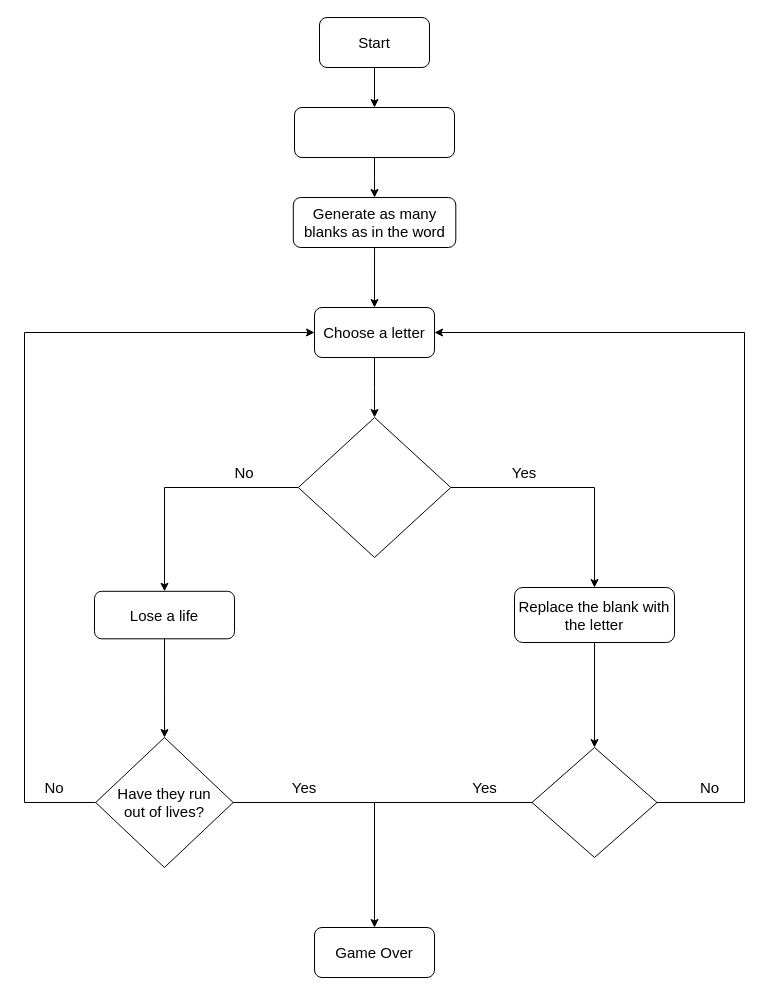
This 770x995 diagram has some shape labels left out. Each missing label, with the centre of its shape:
Are all blanks filled?: the point at 594,802
Generate a random word: the point at 374,132
Is the guessed letter in the word?: the point at 374,487
